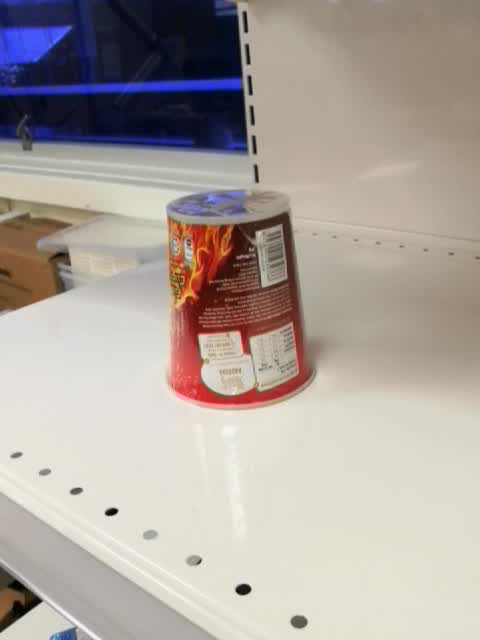maggi: (164, 190, 317, 410)
